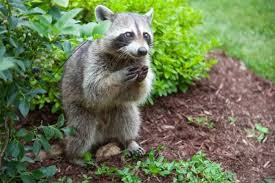raccoon: (53, 2, 157, 166)
